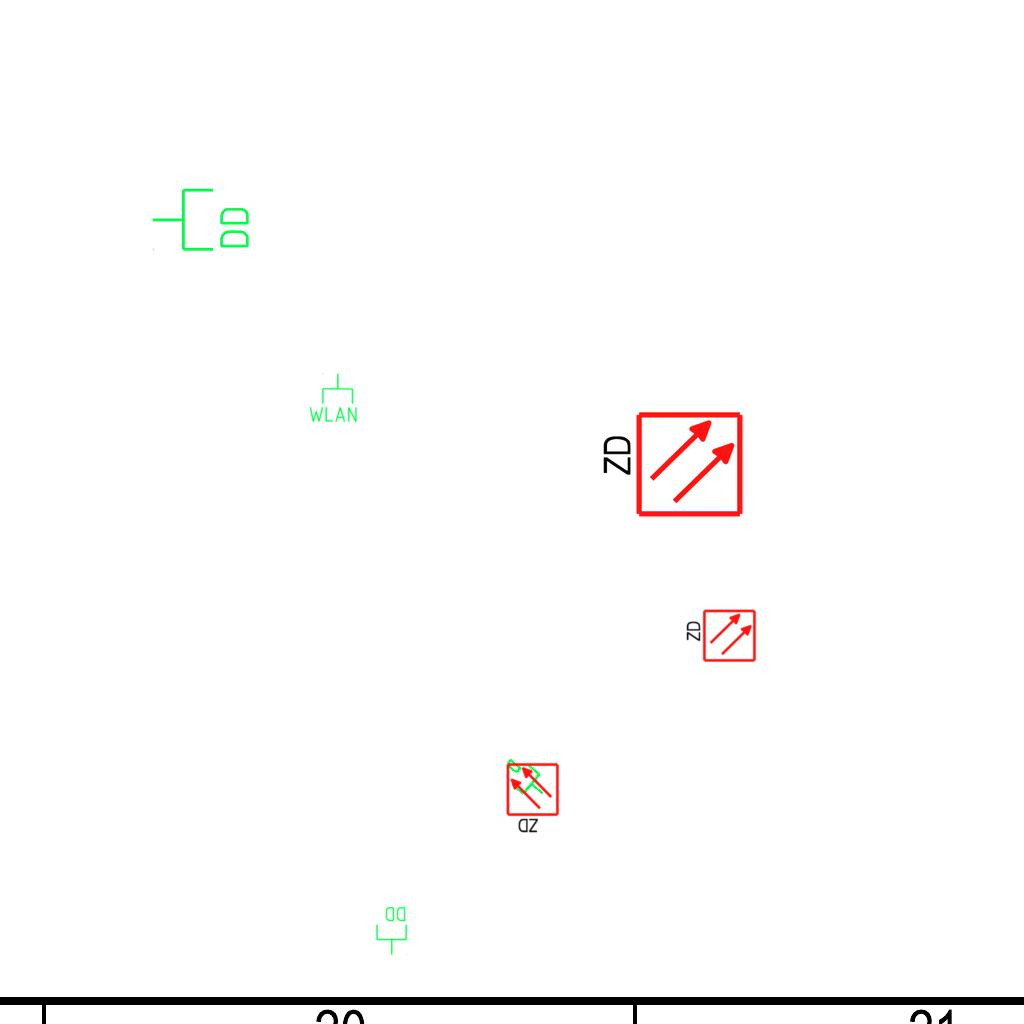Datenanschluss_einfach: (493, 749, 555, 809)
Datenanschluss_zweifach: (150, 186, 253, 255), (375, 905, 409, 956)
WLAN: (307, 372, 359, 424)
ZD_Melder_in_Zwischendecke_mit_Revisionsoeffnung_mind_40_x_40_cm: (596, 409, 745, 523), (683, 608, 757, 665), (505, 762, 562, 836)
